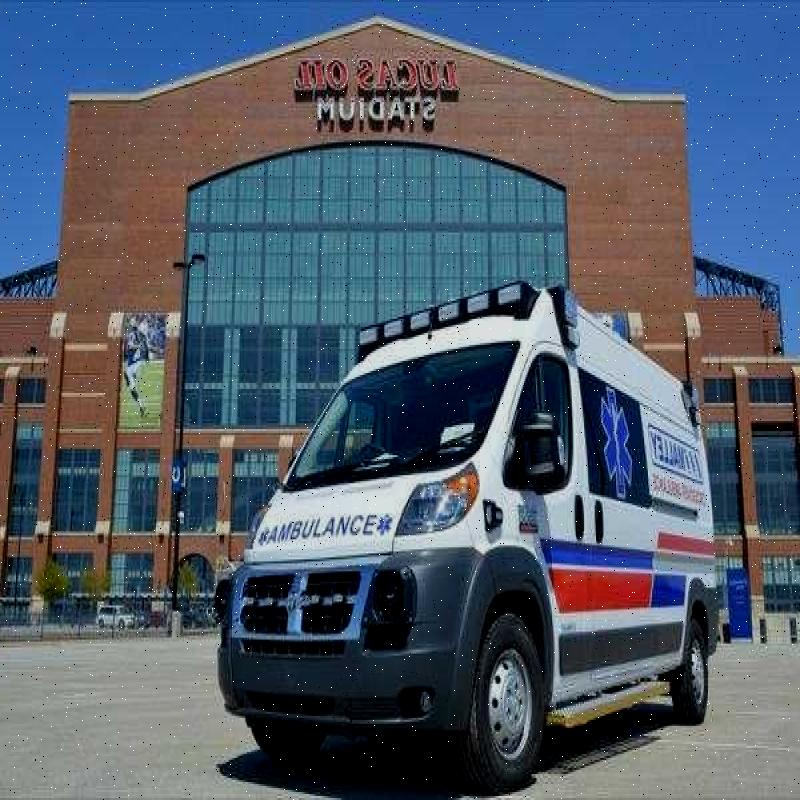AmbulanceSiren: (347, 262, 527, 368)
